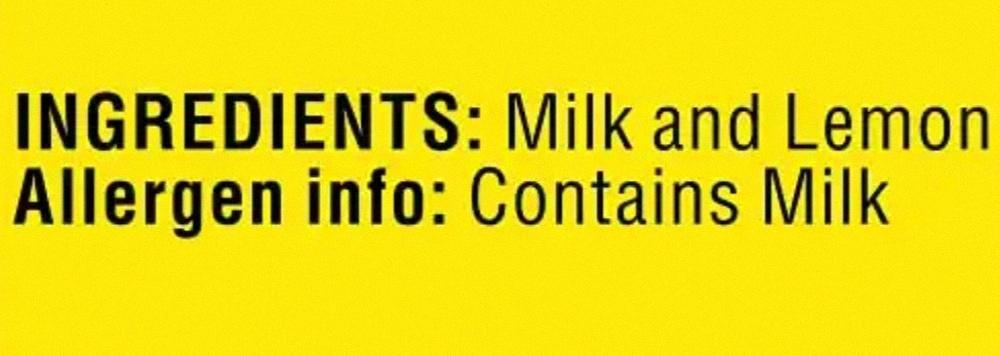ingredients: (14, 74, 999, 245)
